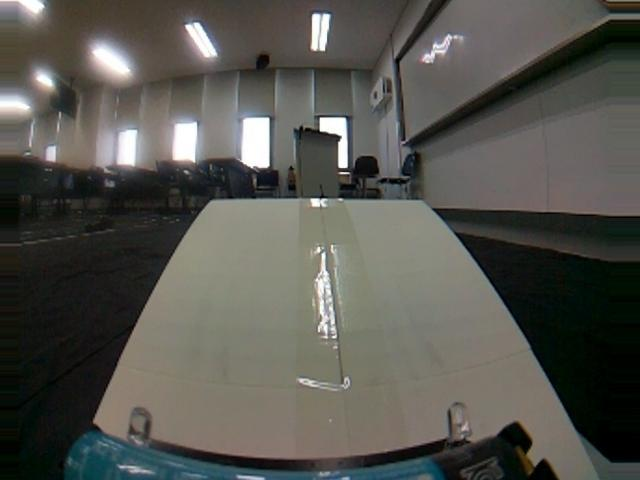hill_up: (74, 198, 587, 464)
